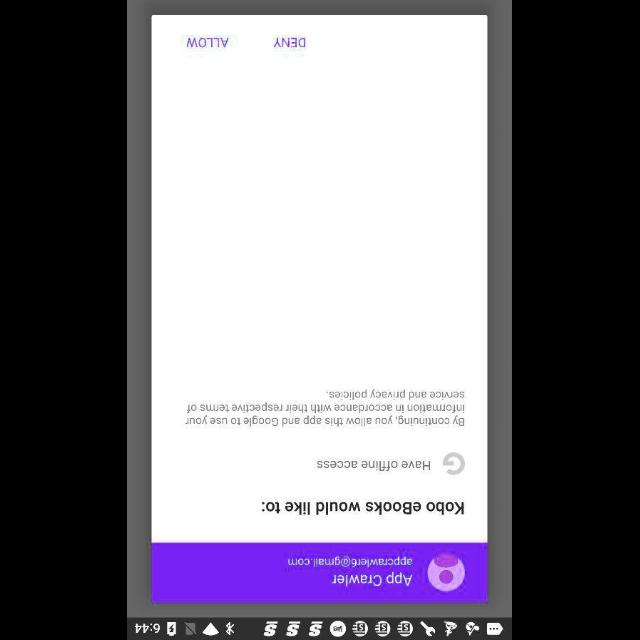icon: (428, 554, 466, 592)
panel: (152, 14, 488, 602)
text: (186, 388, 466, 428), (261, 500, 465, 516), (289, 554, 413, 568), (317, 460, 431, 472), (332, 572, 414, 586), (442, 451, 466, 475), (186, 38, 230, 48), (274, 36, 306, 48)
uppertaskbar: (128, 617, 512, 639)
